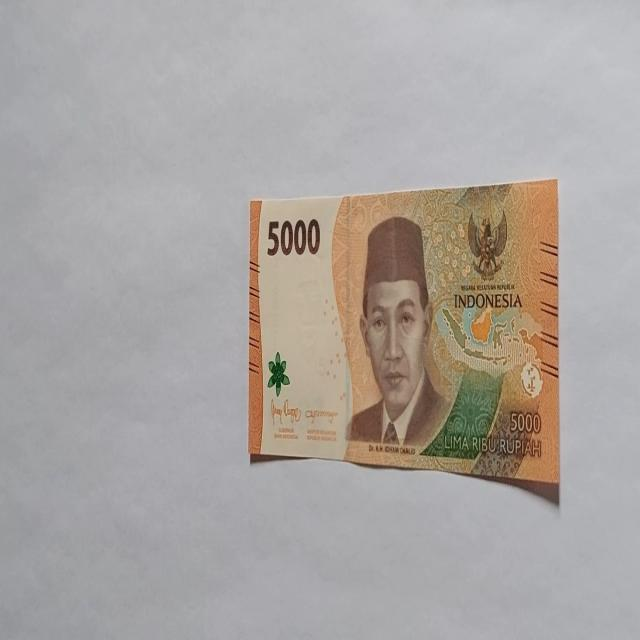lima ribu rupiah: (246, 180, 562, 506), (346, 214, 452, 453)
